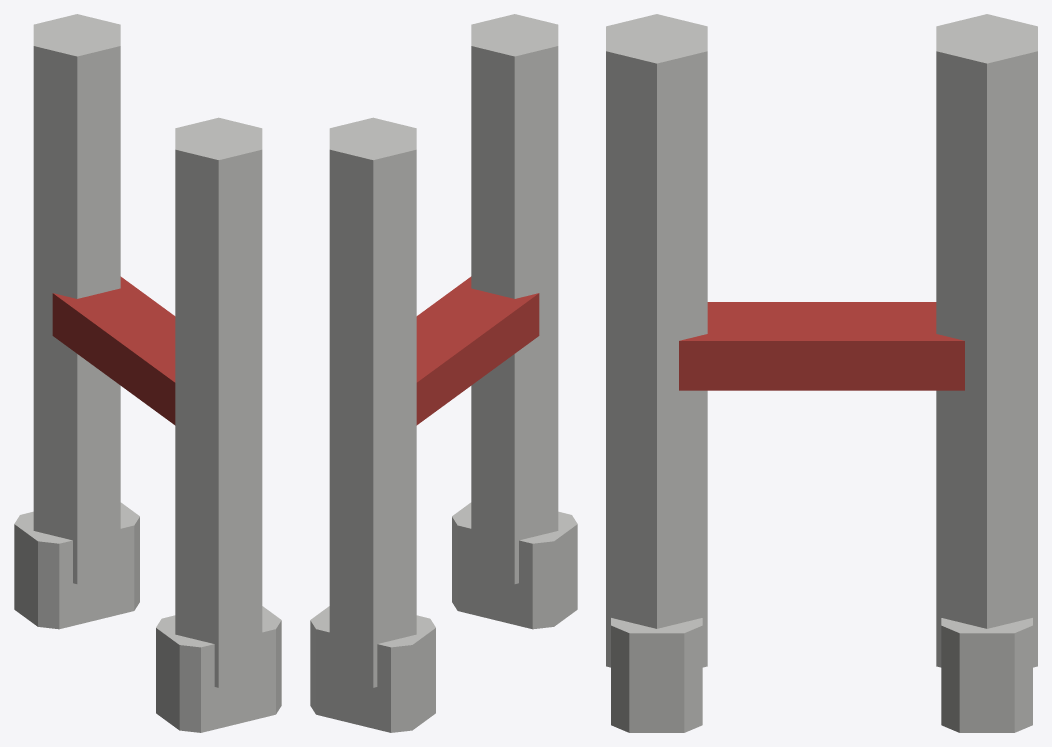
File: cafe_brace_fork_lower_lod2.glb
3 renders of one model, left to right at view 1: azimuth 30°, elevation 25°; view 2: azimuth 150°, elevation 25°; view 3: azimuth 270°, elevation 25°, orthographic. The views are drawn at different scales.
Parts seen in each view (by area): view 1: cafe_brace_fork_lower_lod2; view 2: cafe_brace_fork_lower_lod2; view 3: cafe_brace_fork_lower_lod2.
Boxes of the visible parts, bbox=[...] form: cafe_brace_fork_lower_lod2: bbox=[14, 14, 281, 732]; cafe_brace_fork_lower_lod2: bbox=[310, 14, 577, 732]; cafe_brace_fork_lower_lod2: bbox=[606, 14, 1037, 732].
Size of the model in its own units: 0.075 by 0.4 by 0.2354.
